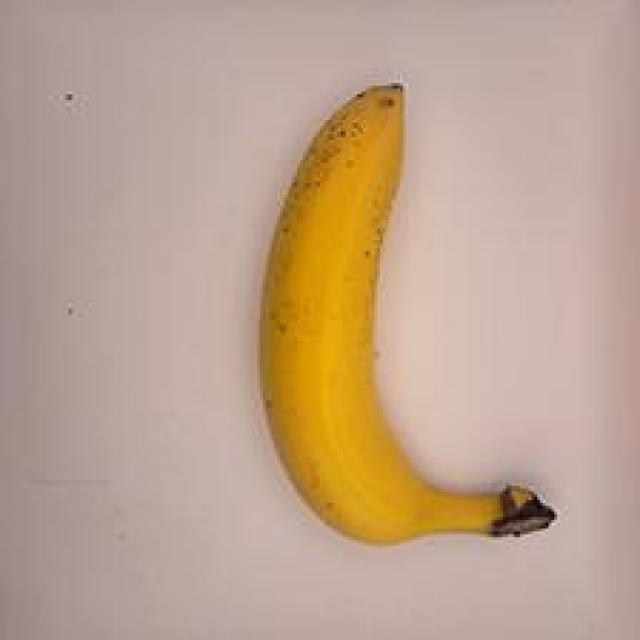Ripe: (216, 54, 576, 572)
